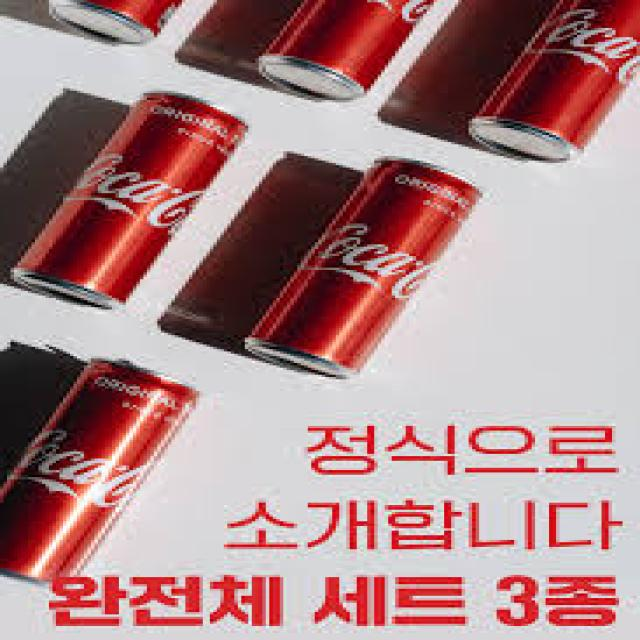Coca-Cola: (1, 82, 263, 315), (236, 146, 485, 384), (0, 343, 204, 600), (468, 0, 640, 178)
